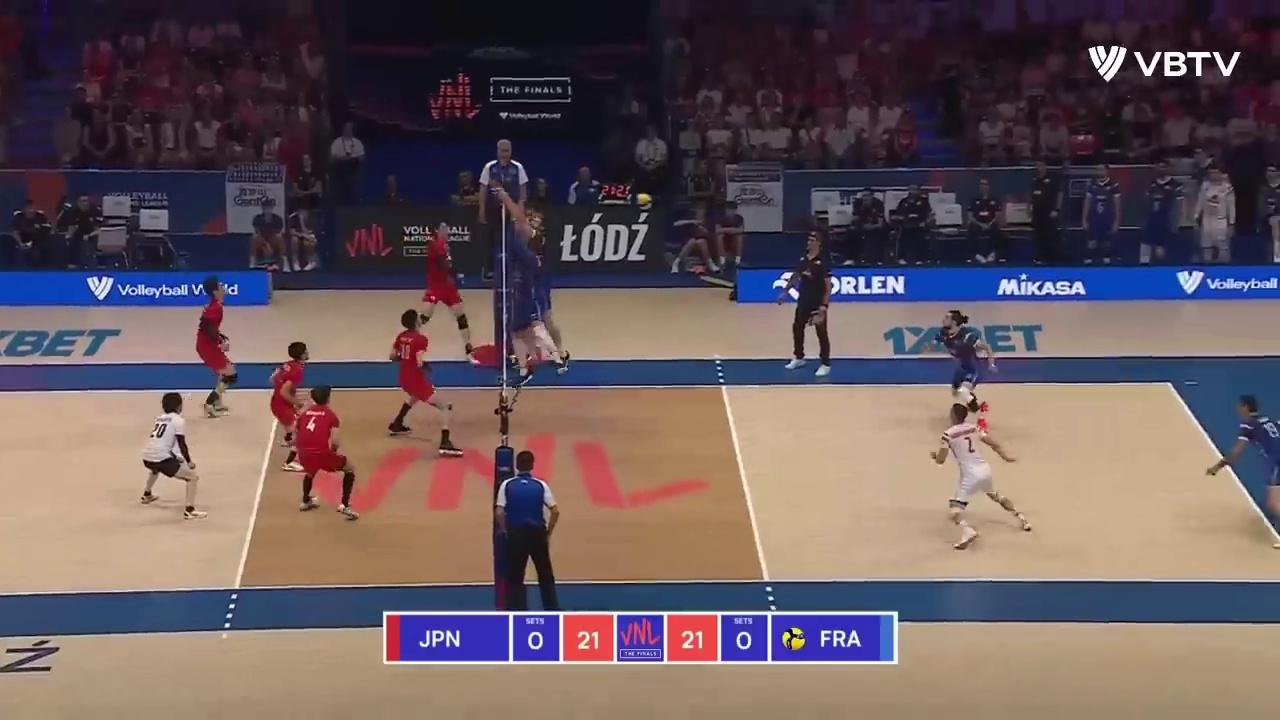ball: (635, 195, 653, 212)
